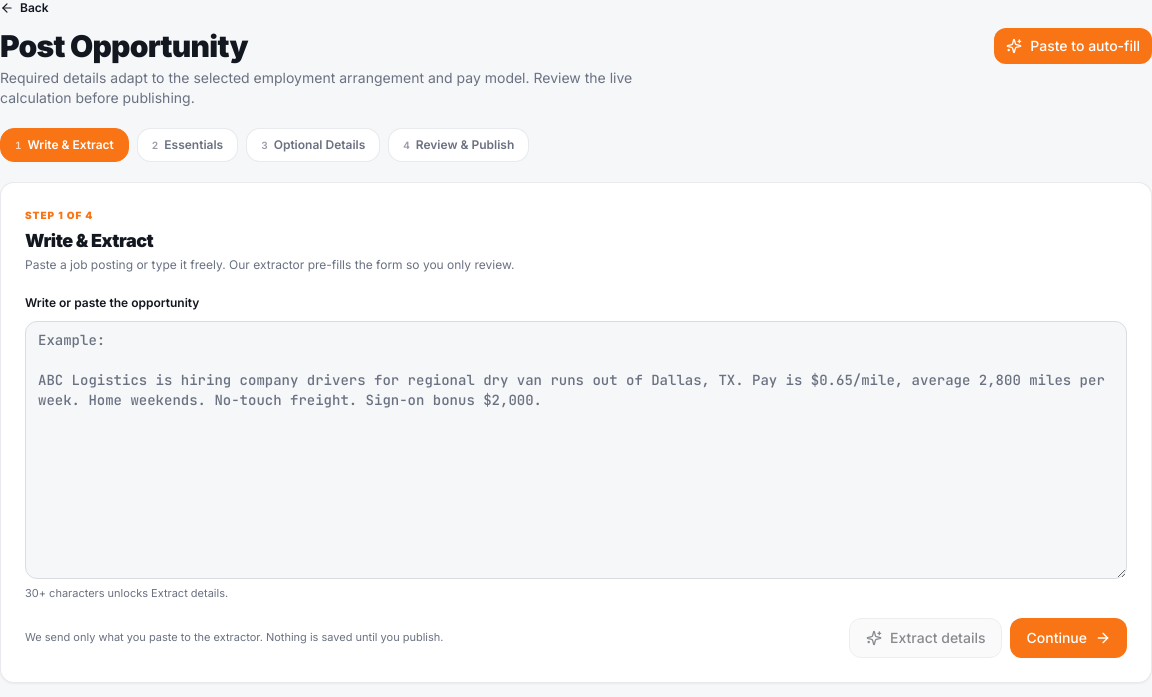
Test: Phase 1O-A — form structure › shows exactly one transparency confirmation with the exact attestation copy on Review
Click the tab "4Review & Publish".
click(459, 145)  # box x1=388 y1=128 x2=529 y2=162
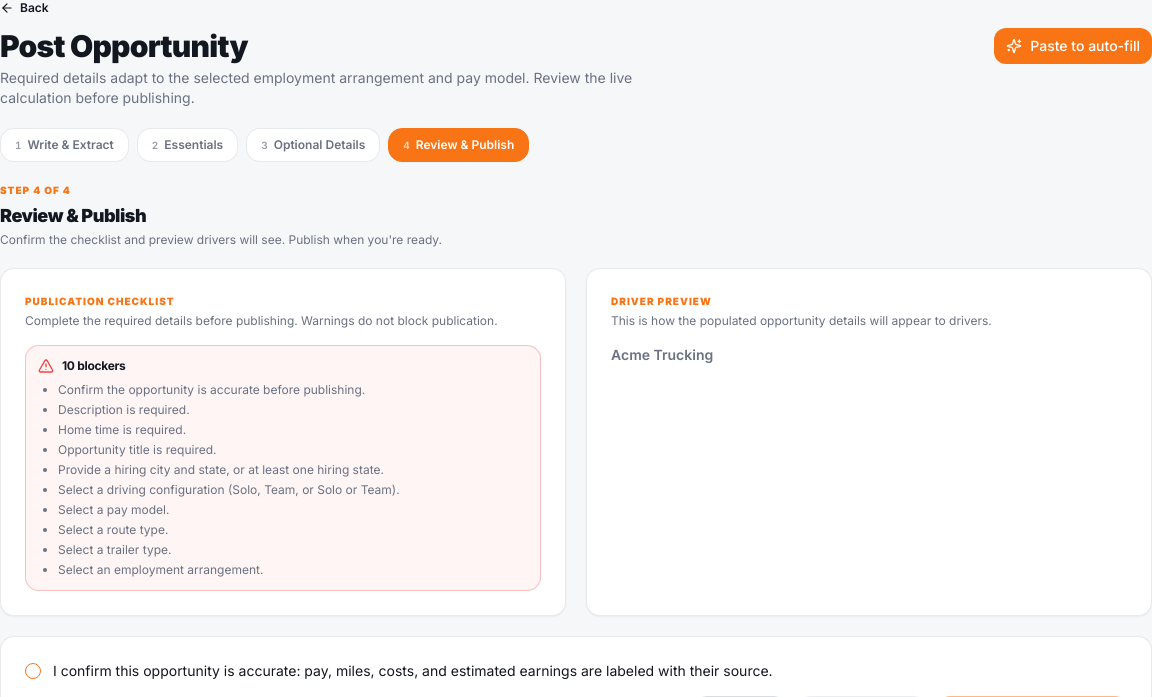
Expected: the number of checkboxes is 1, x1=25 y1=663 x2=41 y2=679
Expected: the text "I confirm this opportunity is accurate: pay, miles, costs, and estimated earnings are labeled with their source." is shown, x1=53 y1=662 x2=773 y2=679
